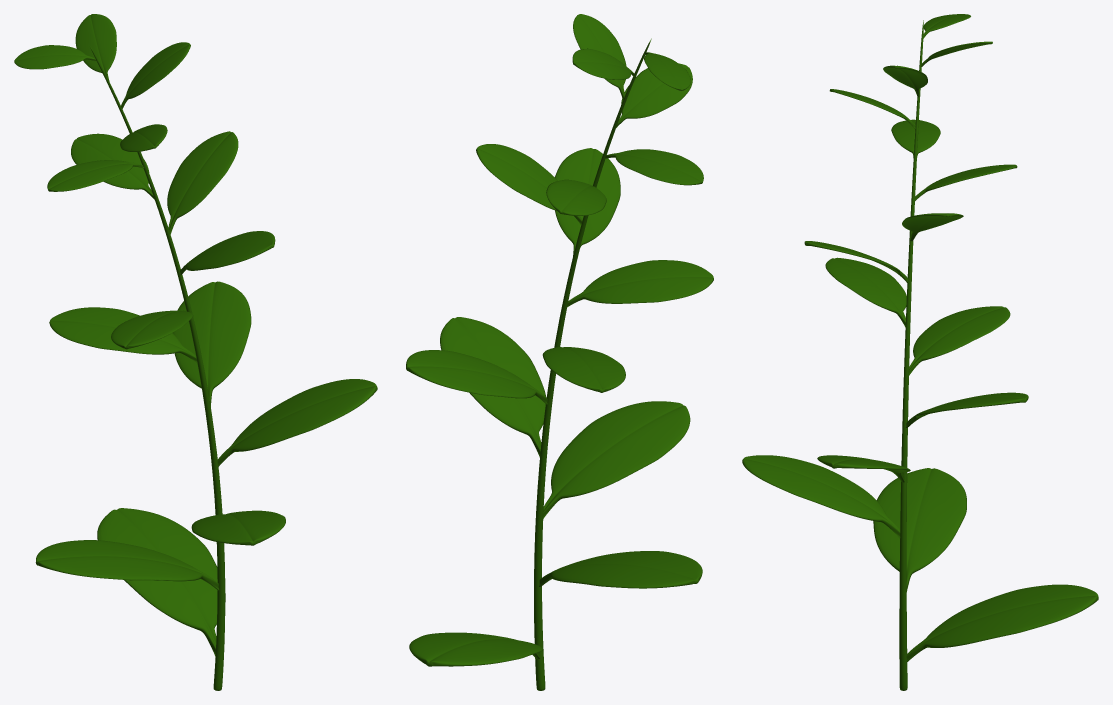
The model's file is coca2.fbx.
3 views of the same model, side by side, from view 1: azimuth 30°, elevation 25°; view 2: azimuth 150°, elevation 25°; view 3: azimuth 270°, elevation 25° (orthographic). The views are drawn at different scales.
Parts seen in each view (by area): view 1: Círculo, Cilindro; view 2: Círculo, Cilindro; view 3: Círculo, Cilindro.
Part boxes in pixels (bbox=[...]): Círculo: bbox=[14, 14, 377, 656]; Cilindro: bbox=[89, 45, 225, 690]; Círculo: bbox=[406, 14, 713, 666]; Cilindro: bbox=[534, 38, 651, 690]; Círculo: bbox=[742, 14, 1098, 662]; Cilindro: bbox=[899, 20, 923, 690].
Size of the model in its own units: 597 by 1295 by 677.
